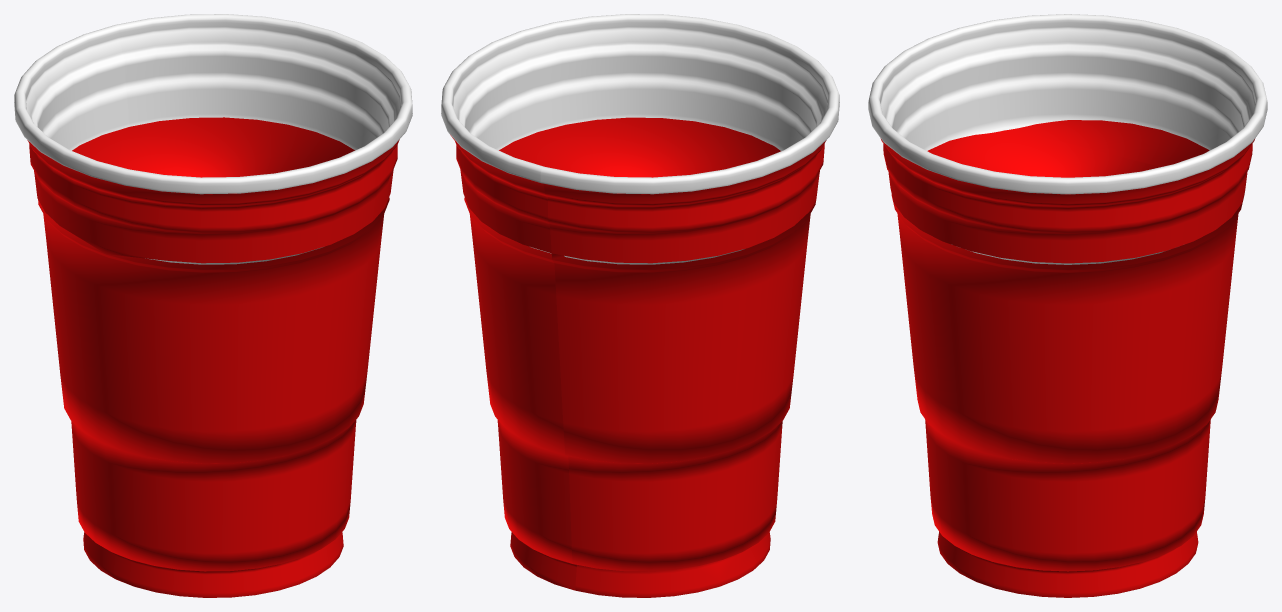
Rendered from office.redsolocup.fbx.
3 views of the same model, side by side, from view 1: azimuth 30°, elevation 25°; view 2: azimuth 150°, elevation 25°; view 3: azimuth 270°, elevation 25° (orthographic).
Visible parts, largest first — view 1: Red Plastic Cup; view 2: Red Plastic Cup; view 3: Red Plastic Cup.
Boxes of the visible parts, x1=… form: Red Plastic Cup: x1=14, y1=14, x2=412, y2=597; Red Plastic Cup: x1=441, y1=14, x2=839, y2=597; Red Plastic Cup: x1=868, y1=14, x2=1267, y2=597.
Bounding box in the file's own units: 9.51 × 11.74 × 9.51.
